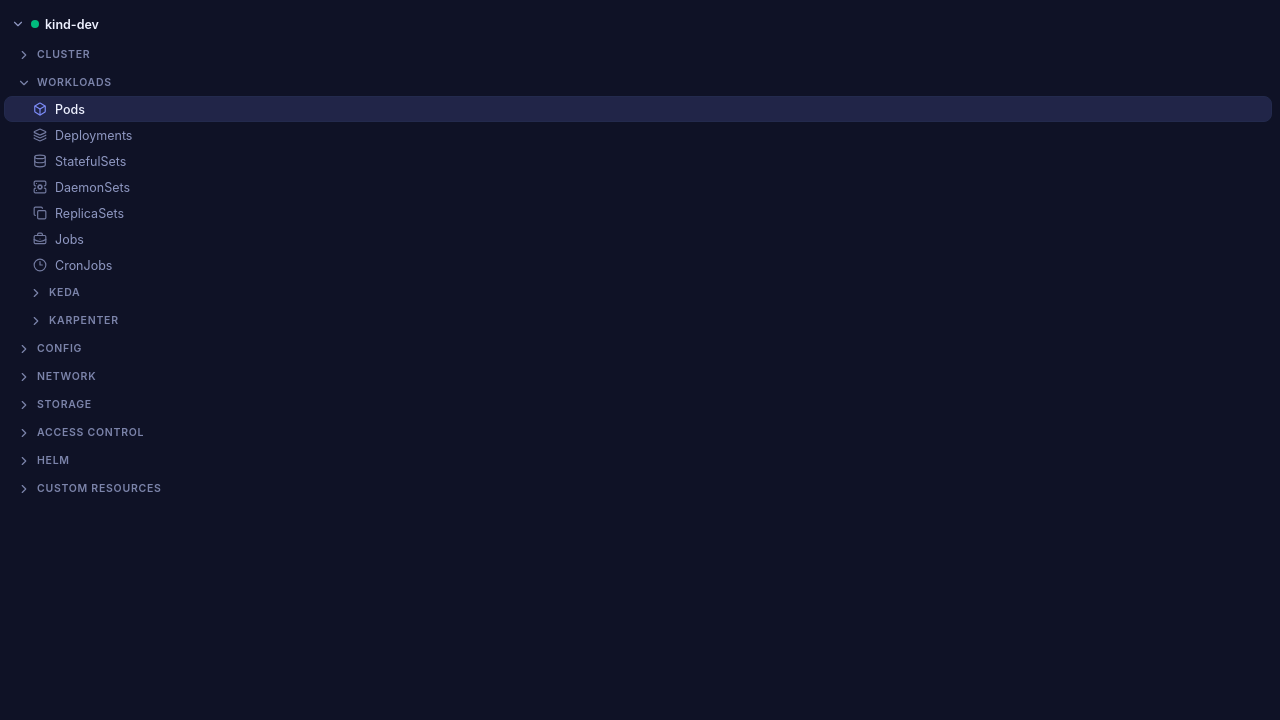
Test case: Sidebar › collapses the whole tree from the cluster node
The image size is (1280, 720).
Click the button "kind-dev".
click(72, 24)  # box left=4, top=11, right=1272, bottom=37
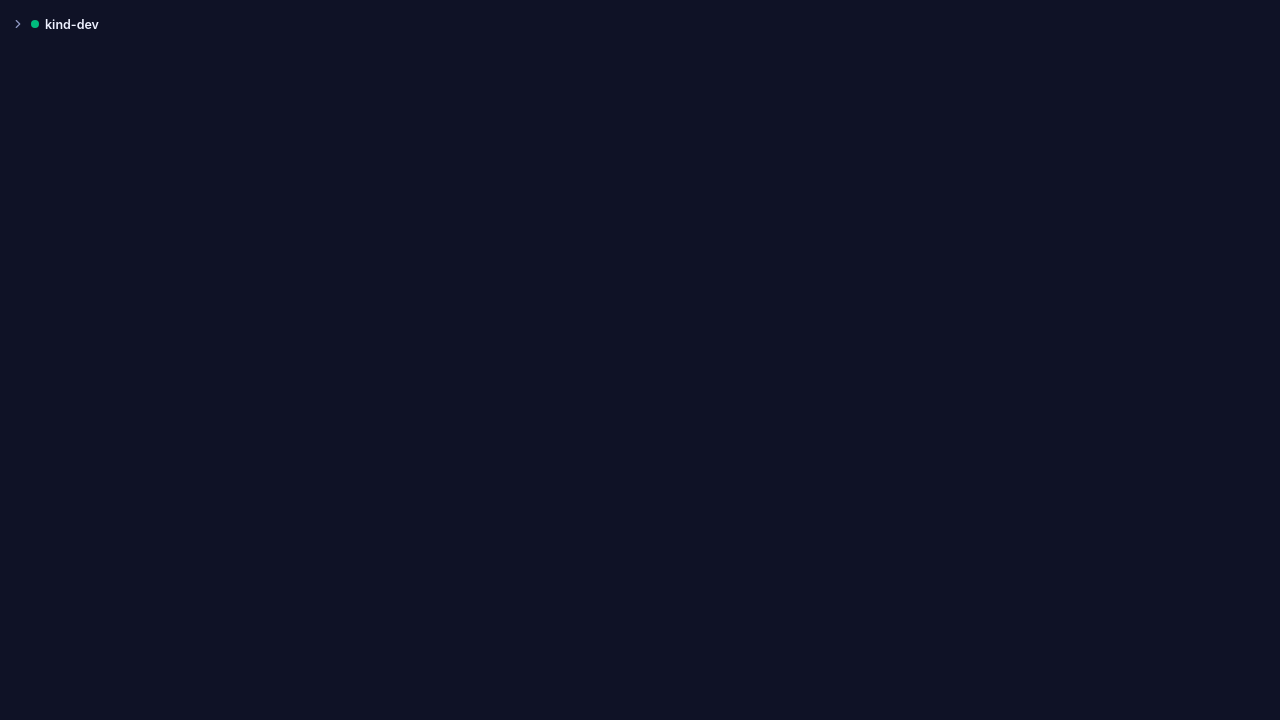
expect the button "Workloads" is gone: met
